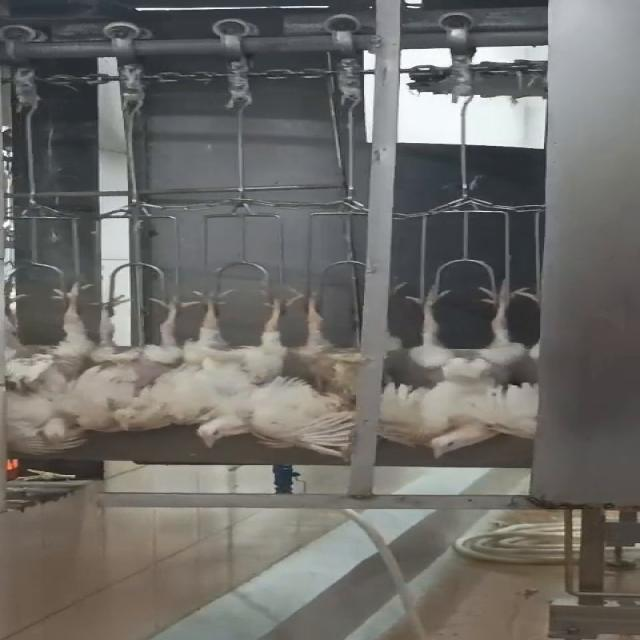chicken: (183, 286, 358, 464), (405, 279, 539, 459), (0, 274, 96, 456), (87, 285, 197, 440), (299, 290, 373, 412)
